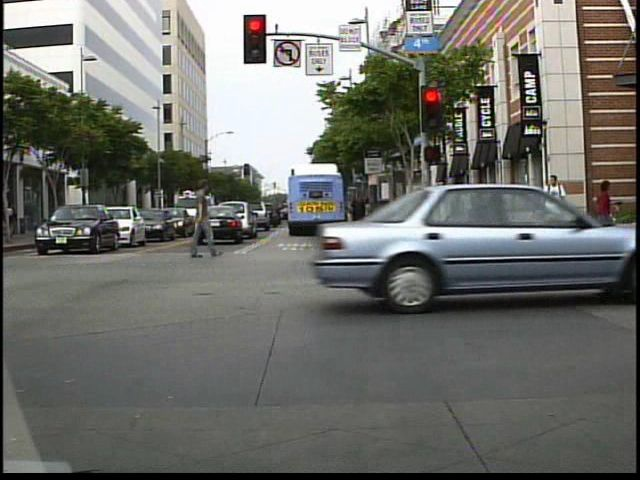person: (182, 178, 223, 262), (585, 178, 617, 249)
